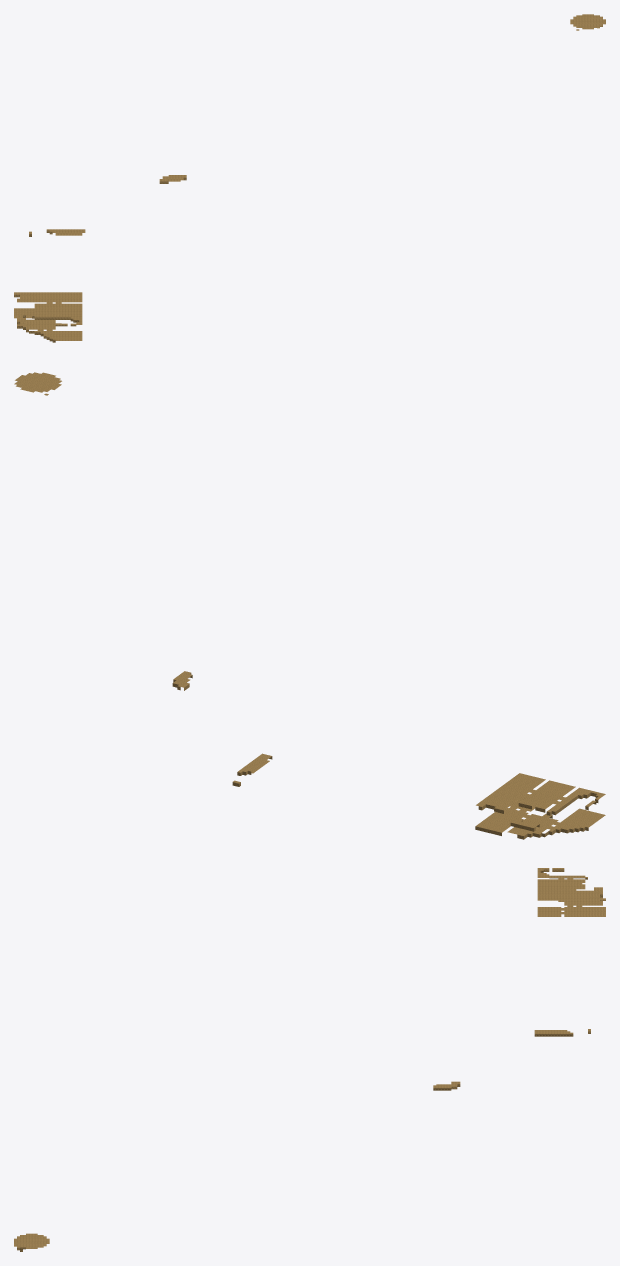
The model's file is Oak_Planks.fbx.
3 views of the same model, one above another, from view 1: azimuth 90°, elevation 25°; view 2: azimuth 150°, elevation 25°; view 3: azimuth 270°, elevation 25° (orthographic). The views are drawn at different scales.
Parts seen in each view (by area): view 1: Oak_Planks; view 2: Oak_Planks; view 3: Oak_Planks.
Boxes of the visible parts, <box> form: Oak_Planks: <box>14,14,605,342</box>; Oak_Planks: <box>14,372,605,839</box>; Oak_Planks: <box>14,868,605,1251</box>.
Bounding box in the file's own units: 27500 × 1600 × 19900.
1 material, 1 textured.
